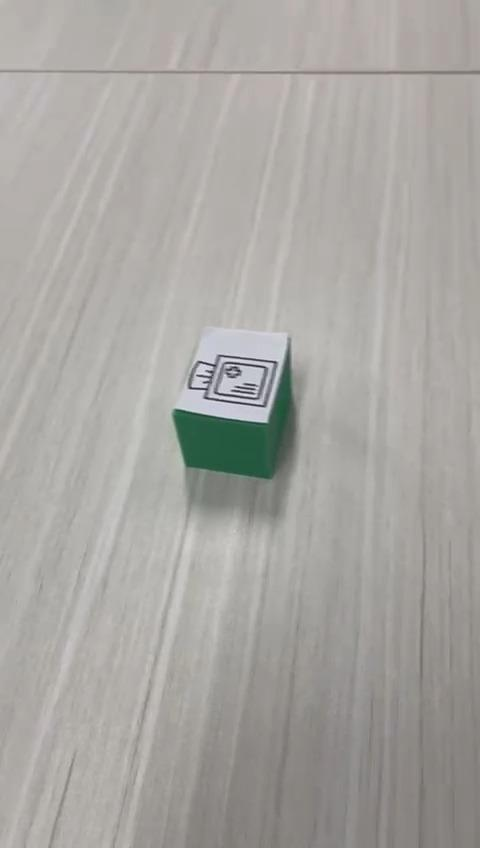Gauze: (170, 324, 293, 480)
